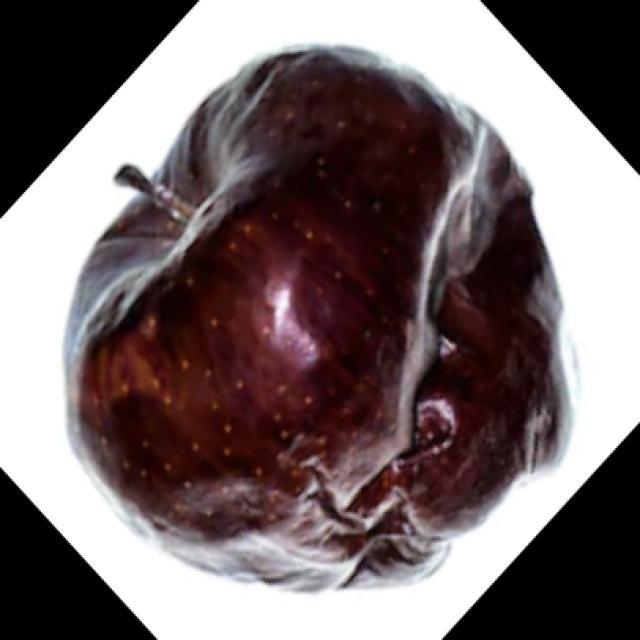Rotten: (83, 52, 565, 568)
